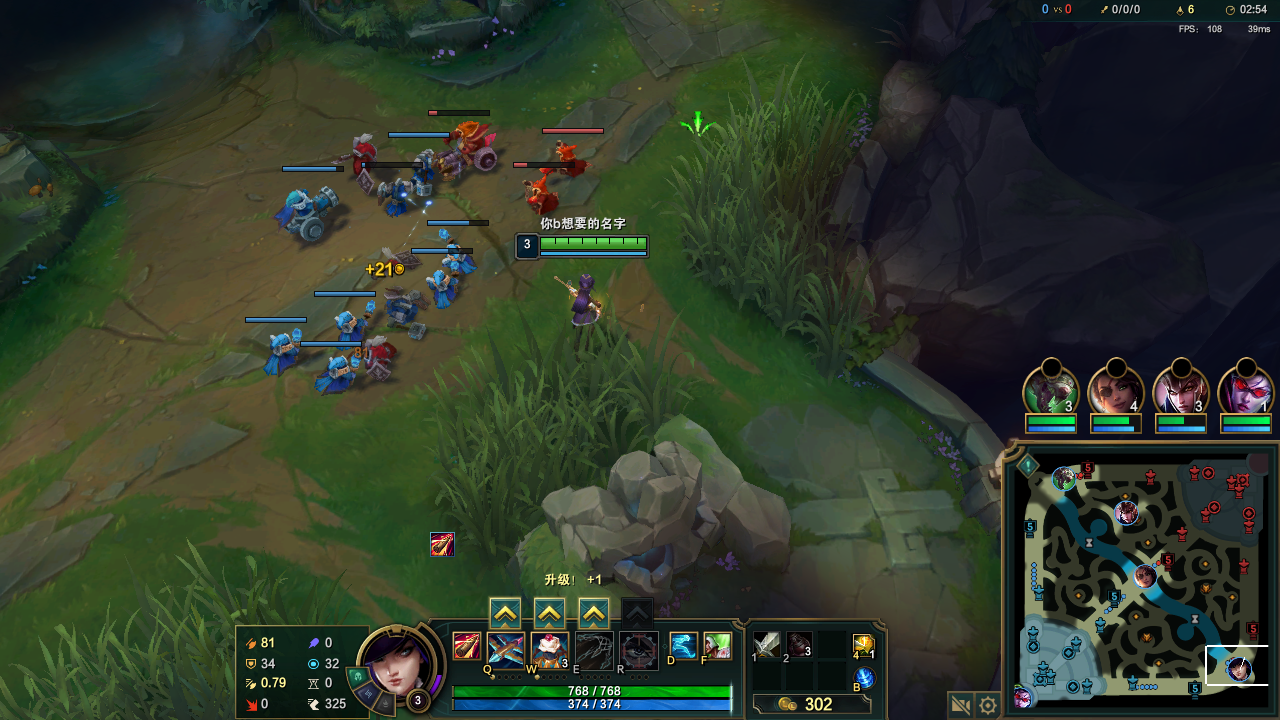DFXB: (438, 121, 499, 180), (522, 173, 559, 218), (342, 134, 374, 182), (548, 140, 589, 175)
SJ: (583, 600, 606, 630), (534, 601, 560, 625), (494, 599, 518, 624)
WFXB: (274, 186, 335, 240), (333, 300, 376, 343), (263, 327, 304, 372), (318, 357, 361, 396), (426, 267, 462, 305), (411, 148, 440, 194), (379, 179, 410, 216), (445, 243, 475, 274)
Yita: (1186, 673, 1204, 699)
